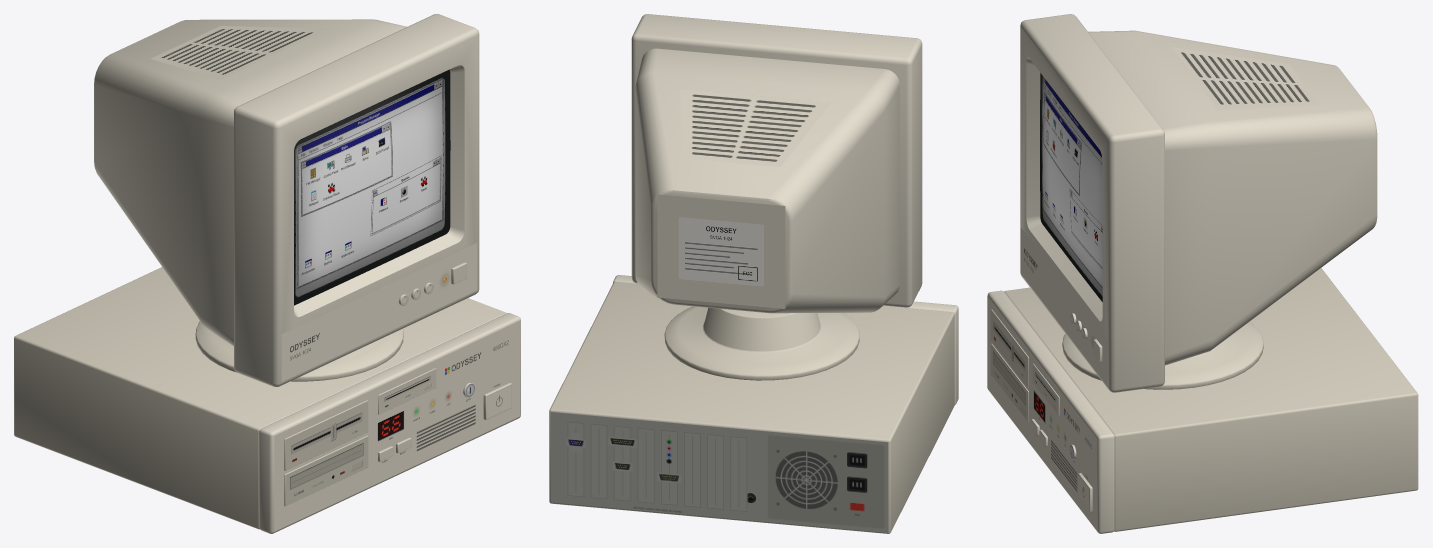
The model's file is windows3x.glb.
3 views of the same model, side by side, from view 1: azimuth 30°, elevation 25°; view 2: azimuth 150°, elevation 25°; view 3: azimuth 270°, elevation 25° (orthographic). The views are drawn at different scales.
Parts seen in each view (by area): view 1: windows3x; view 2: windows3x; view 3: windows3x.
Boxes of the visible parts, x1,y1,x2,y2 form: windows3x: (14,14,520,533); windows3x: (549,14,958,533); windows3x: (987,14,1418,533).
Size of the model in its own units: 1 by 0.9571 by 0.9662.
Materials: 6 (2 with a texture image).
